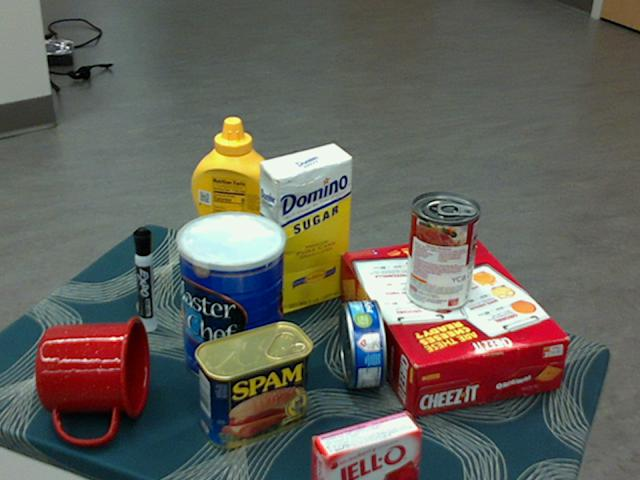cracker_box: (337, 236, 567, 413)
gelatin_box: (308, 411, 419, 479)
large_marker: (132, 225, 153, 331)
master_chef_can: (177, 212, 286, 387)
mug: (36, 316, 149, 443)
mustard_bottle: (190, 117, 277, 285)
potted_meat_can: (195, 321, 312, 448)
sugar_box: (259, 145, 352, 316)
tomato_soup_can: (404, 193, 479, 313)
tuna_fish_can: (339, 298, 387, 388)
